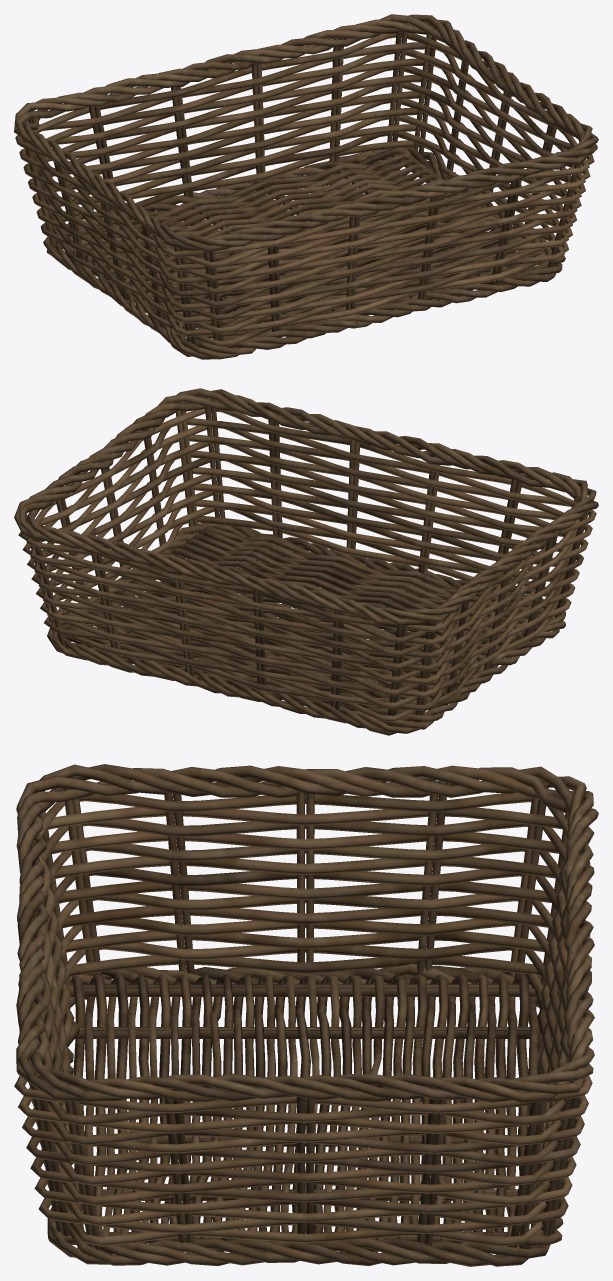
Rendered from wicker_basket_01_lite.gltf.
The picture shows the model from 3 angles, top to bottom: view 1: azimuth 30°, elevation 25°; view 2: azimuth 150°, elevation 25°; view 3: azimuth 270°, elevation 25°; orthographic projection. The views are drawn at different scales.
Parts seen in each view (by area): view 1: wicker_basket_01; view 2: wicker_basket_01; view 3: wicker_basket_01.
Boxes of the visible parts, x1,y1,x2,y2 form: wicker_basket_01: (14,14,598,359); wicker_basket_01: (14,388,598,735); wicker_basket_01: (14,764,598,1266).
Bounding box in the file's own units: 0.3832 × 0.1174 × 0.295.
1 material, 1 textured.
